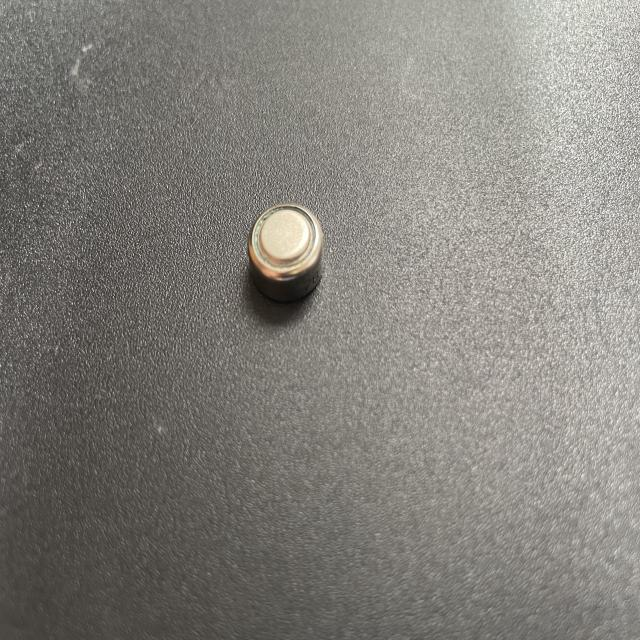COIN: (247, 200, 326, 304)
